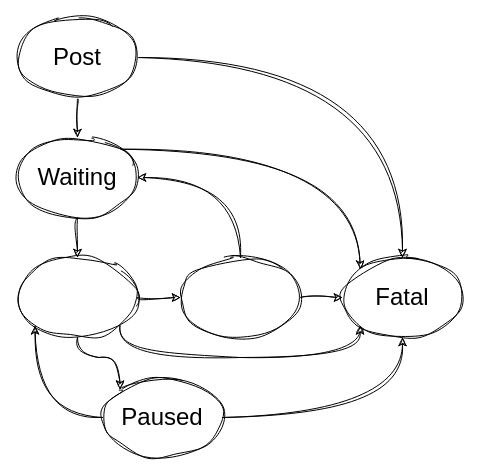
Image size: 480x475. Some labels were removed from this diagram. The box of each missing label's shape, as (x1, y1, x2, y2) in pixels:
Listening: (16, 256, 138, 338)
Warning: (180, 256, 300, 338)
